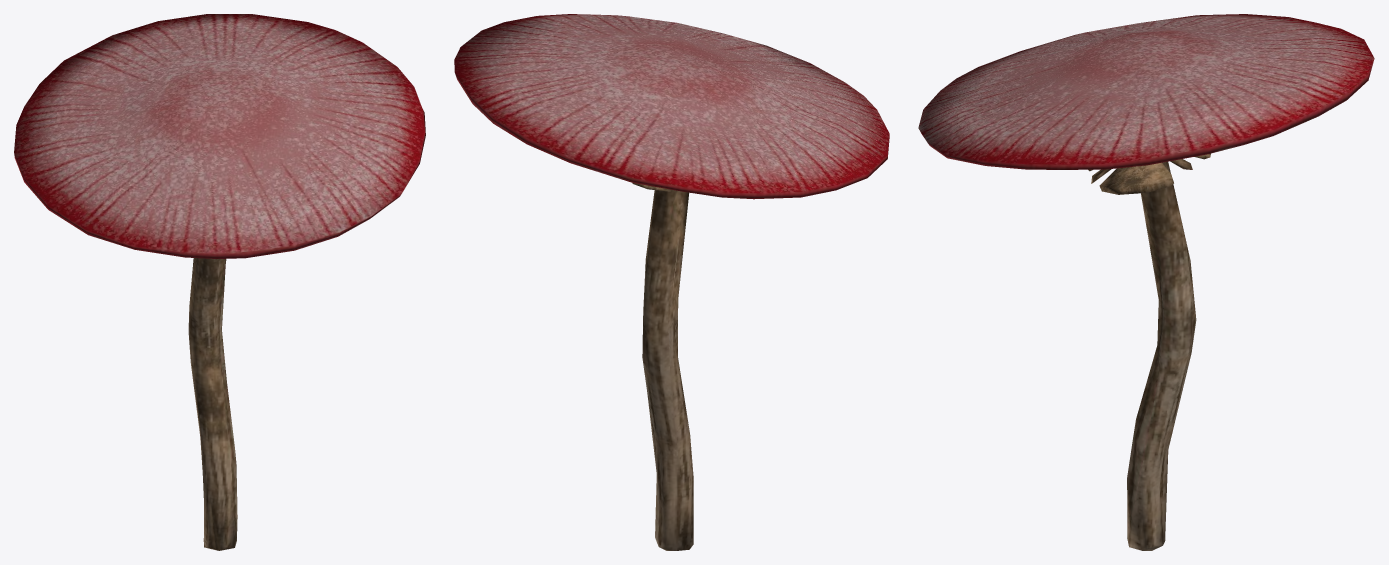
Rendered from Mushroom.fbx.
The picture shows the model from 3 angles, left to right: view 1: azimuth 30°, elevation 25°; view 2: azimuth 150°, elevation 25°; view 3: azimuth 270°, elevation 25°; orthographic projection. The views are drawn at different scales.
Parts seen in each view (by area): view 1: Mushroom; view 2: Mushroom; view 3: Mushroom.
Part boxes in pixels (x1,y1,x2,y2): Mushroom: (14, 14, 425, 550); Mushroom: (454, 14, 889, 550); Mushroom: (918, 14, 1374, 550).
Size of the model in its own units: 0.1899 by 0.2318 by 0.1913.
